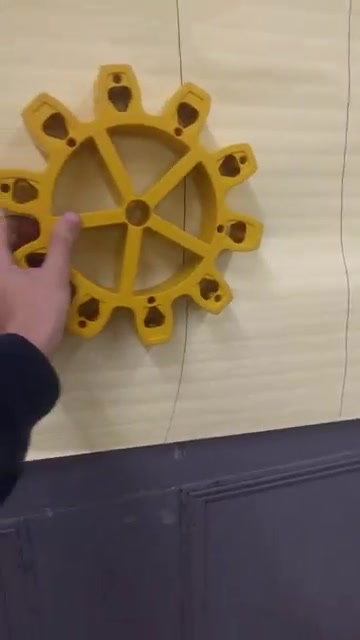gear: (1, 73, 265, 355)
